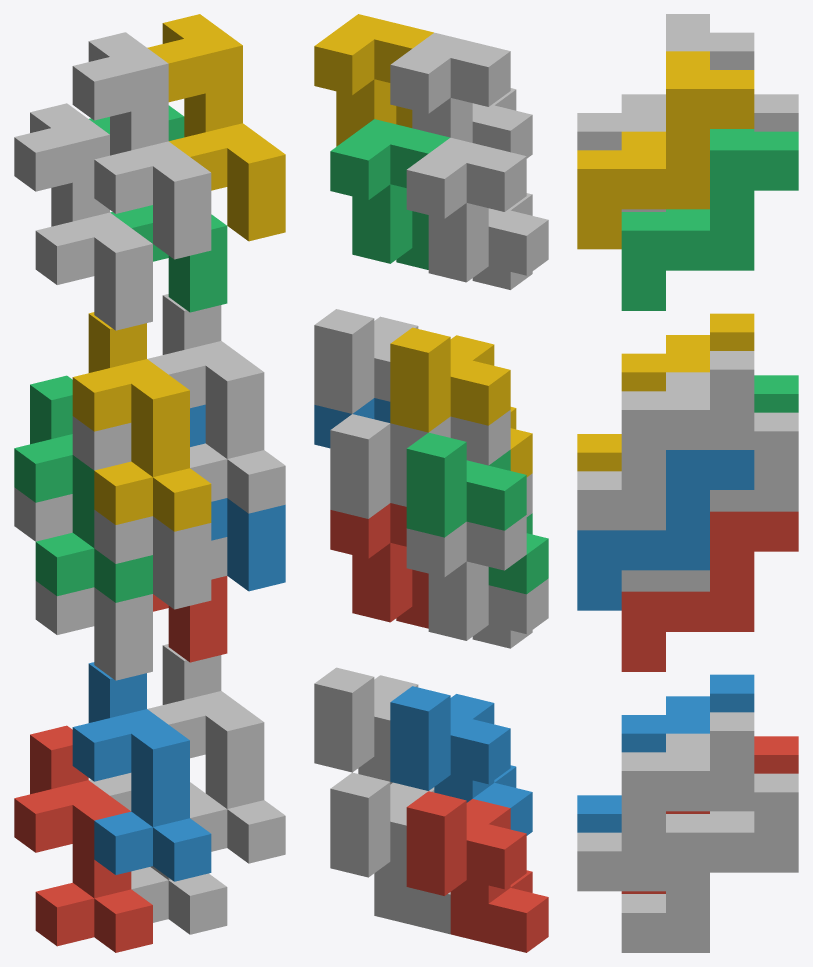
File: tiling.obj
The picture shows the model from 3 angles, left to right: view 1: azimuth 30°, elevation 25°; view 2: azimuth 150°, elevation 25°; view 3: azimuth 270°, elevation 25°; orthographic projection. The views are drawn at different scales.
Parts seen in each view (by area): view 1: copy_1_domain_2, copy_1_domain_4, copy_2_domain_4, copy_2_domain_3, copy_1_domain_1, copy_2_domain_8, copy_1_domain_6, copy_1_domain_8, copy_1_domain_3, copy_2_domain_2, copy_2_domain_1, copy_2_domain_6 (+4 smaller); view 2: copy_1_domain_1, copy_2_domain_3, copy_1_domain_2, copy_2_domain_1, copy_2_domain_4, copy_1_domain_3, copy_1_domain_4, copy_2_domain_7, copy_1_domain_5, copy_2_domain_8, copy_2_domain_5, copy_1_domain_6 (+4 smaller); view 3: copy_2_domain_8, copy_1_domain_6, copy_1_domain_8, copy_2_domain_7, copy_1_domain_5, copy_2_domain_5, copy_2_domain_6, copy_1_domain_7, copy_1_domain_2, copy_1_domain_4, copy_2_domain_4, copy_1_domain_1 (+2 smaller).
Part boxes in pixels (x1=…): copy_1_domain_2: x1=72, y1=662, x2=211, y2=881; copy_1_domain_4: x1=72, y1=312, x2=211, y2=531; copy_2_domain_4: x1=72, y1=32, x2=211, y2=259; copy_2_domain_3: x1=14, y1=103, x2=152, y2=330; copy_1_domain_1: x1=14, y1=725, x2=152, y2=952; copy_2_domain_8: x1=147, y1=14, x2=285, y2=241; copy_1_domain_6: x1=147, y1=644, x2=285, y2=863; copy_1_domain_8: x1=147, y1=294, x2=285, y2=513; copy_1_domain_3: x1=14, y1=375, x2=152, y2=602; copy_2_domain_2: x1=72, y1=416, x2=211, y2=609; copy_2_domain_1: x1=14, y1=487, x2=152, y2=680; copy_2_domain_6: x1=190, y1=404, x2=285, y2=591; copy_1_domain_1: x1=406, y1=791, x2=548, y2=952; copy_2_domain_3: x1=406, y1=137, x2=548, y2=289; copy_1_domain_2: x1=390, y1=686, x2=532, y2=835; copy_2_domain_1: x1=406, y1=515, x2=548, y2=648; copy_2_domain_4: x1=390, y1=32, x2=532, y2=158; copy_1_domain_3: x1=406, y1=432, x2=548, y2=594; copy_1_domain_4: x1=390, y1=327, x2=532, y2=476; copy_2_domain_7: x1=330, y1=119, x2=449, y2=269; copy_1_domain_5: x1=330, y1=772, x2=450, y2=934; copy_2_domain_8: x1=314, y1=14, x2=433, y2=146; copy_2_domain_5: x1=330, y1=503, x2=428, y2=628; copy_1_domain_6: x1=314, y1=667, x2=434, y2=789; copy_2_domain_8: x1=577, y1=51, x2=754, y2=249; copy_1_domain_6: x1=577, y1=712, x2=754, y2=891; copy_1_domain_8: x1=577, y1=351, x2=754, y2=530; copy_2_domain_7: x1=621, y1=129, x2=798, y2=310; copy_1_domain_5: x1=621, y1=773, x2=798, y2=952; copy_2_domain_5: x1=621, y1=511, x2=798, y2=671; copy_2_domain_6: x1=577, y1=450, x2=754, y2=610; copy_1_domain_7: x1=621, y1=412, x2=798, y2=591; copy_1_domain_2: x1=577, y1=674, x2=754, y2=832; copy_1_domain_4: x1=577, y1=313, x2=754, y2=471; copy_2_domain_4: x1=577, y1=14, x2=754, y2=150; copy_1_domain_1: x1=621, y1=736, x2=798, y2=893.
Bounding box in the file's own units: 5 × 22 × 5.
